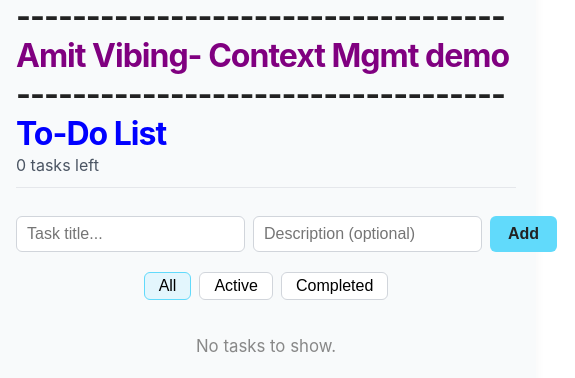
Test case: App Component › Deleting Tasks › deletes a task when delete button is clicked
The width and height of the screenshot is (575, 378).
Type "Task to delete" into the field with placeholder "Task title..." at (130, 234), box [16,216,245,252]
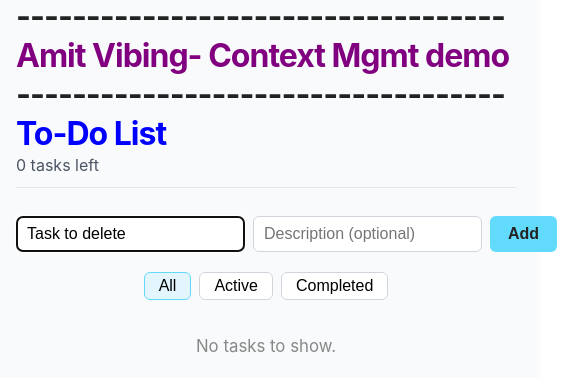
Click the button "Add" at (524, 234), box [490,216,557,252]
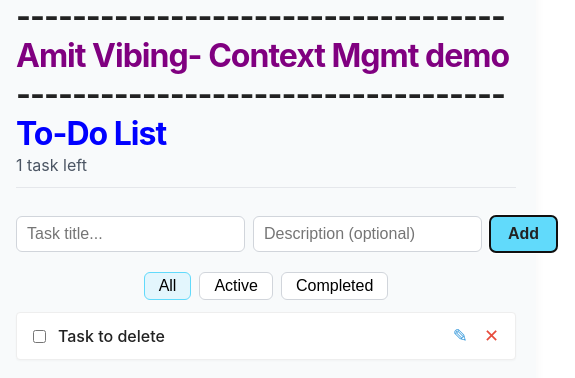
Expected: the text "Task to delete" is shown, [58,326,165,346]
Expected: the text "1 task left" is shown, [16,155,87,175]
// Delete the task
Click the button named "delete" at (491, 336), box [480,321,503,351]
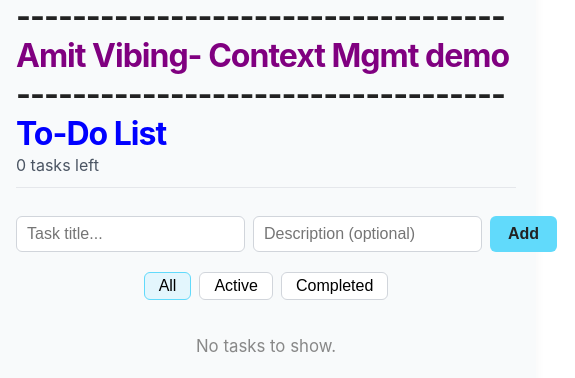
Expected: the text "Task to delete" is gone
Expected: the text "0 tasks left" is shown, [16,155,99,175]
Expected: the text "No tasks to show." is shown, [196,336,336,356]
